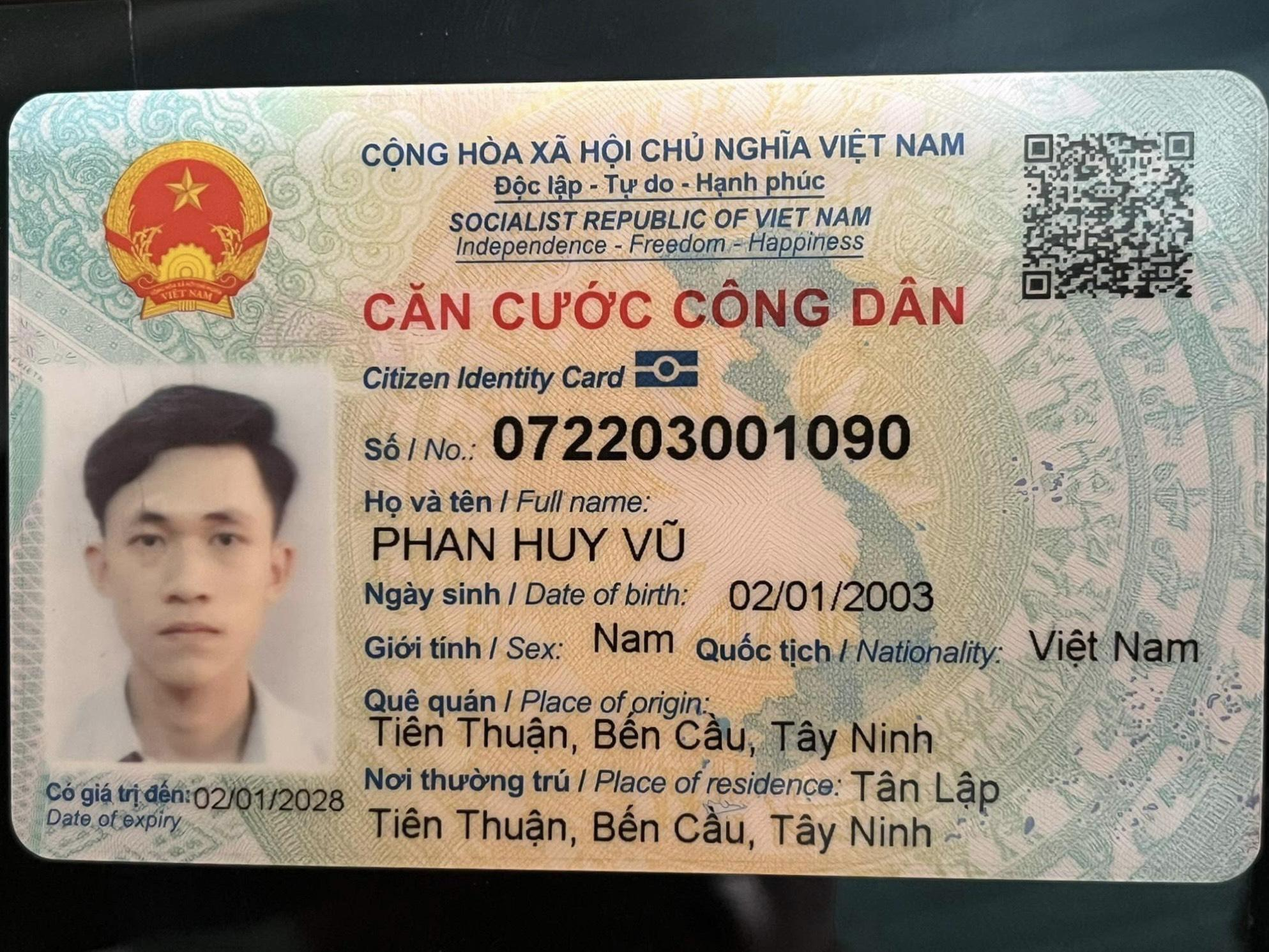ID: (477, 399, 917, 474)
birth: (724, 565, 948, 624)
name: (362, 512, 697, 573)
place: (349, 708, 948, 769)
residence: (356, 794, 946, 866), (846, 760, 1001, 819)
